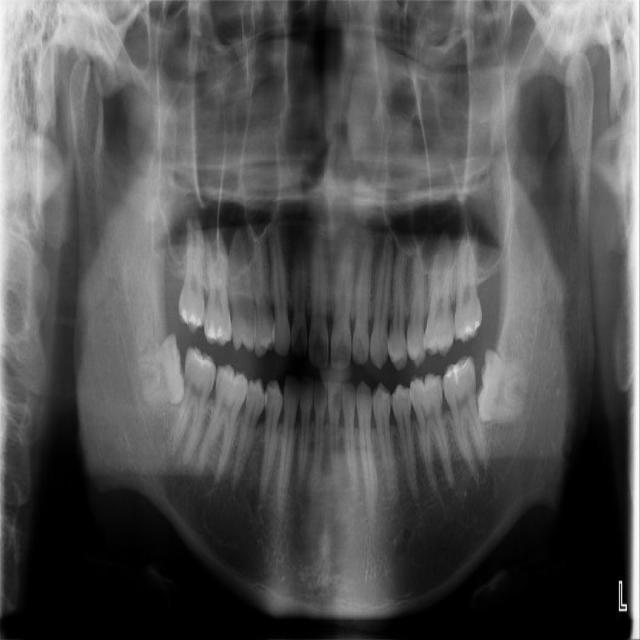52: (440, 353, 478, 414), (176, 281, 208, 336), (450, 298, 485, 345), (203, 300, 233, 347)
73: (618, 614, 626, 624)
BioHorizons Implant: (452, 215, 487, 344)
Biomet 3i Implant: (472, 347, 535, 430)
Blue Sky Bio Implant: (438, 354, 490, 475)
Caries: (178, 217, 206, 334)
Implant: (170, 345, 220, 464)
Keystone Dental Implant: (132, 331, 190, 410)
